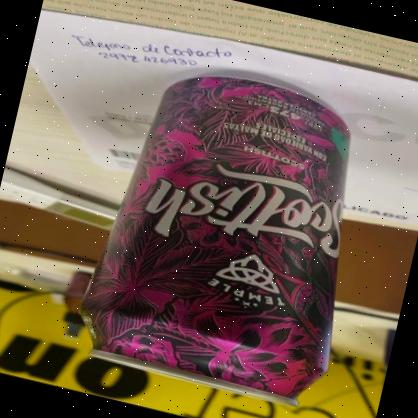can: (68, 52, 388, 416)
